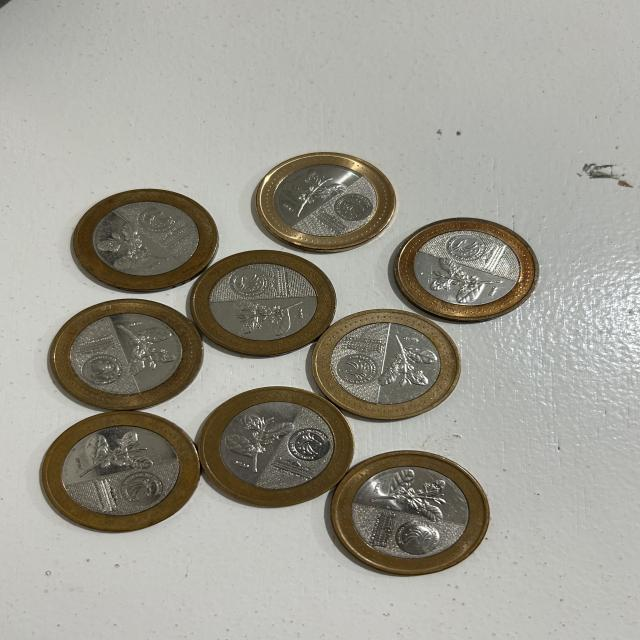20_New_Back: (66, 424, 160, 486), (221, 289, 320, 346), (376, 328, 445, 400)
